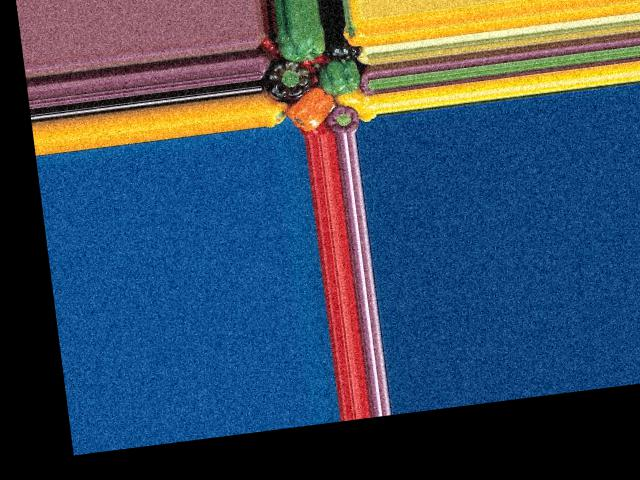bell_pepper: (274, 23, 325, 60)
